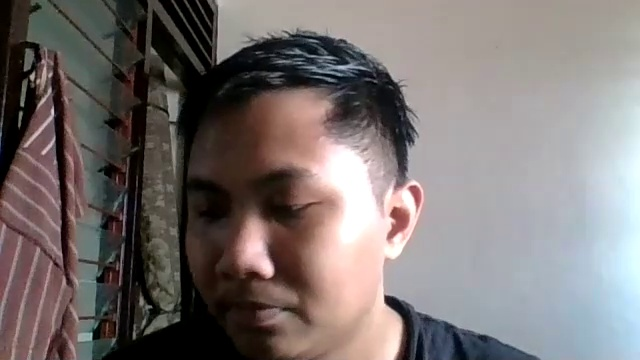Distracted: (175, 90, 423, 360)
